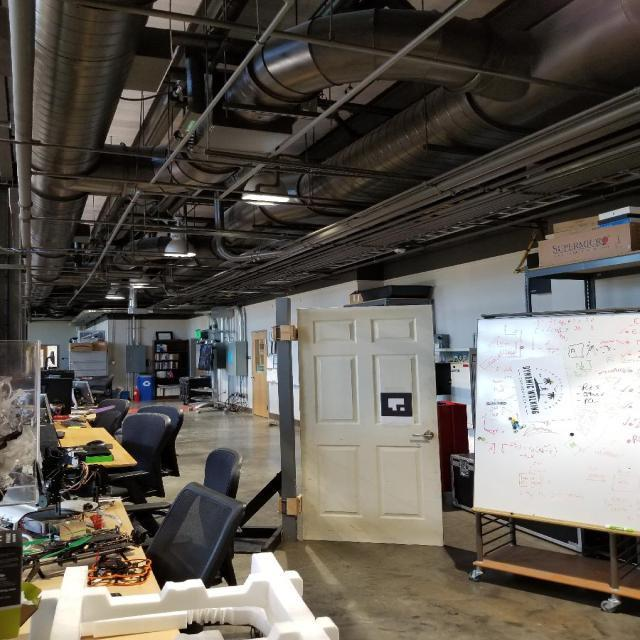door: (293, 302, 447, 551), (410, 427, 436, 442)
